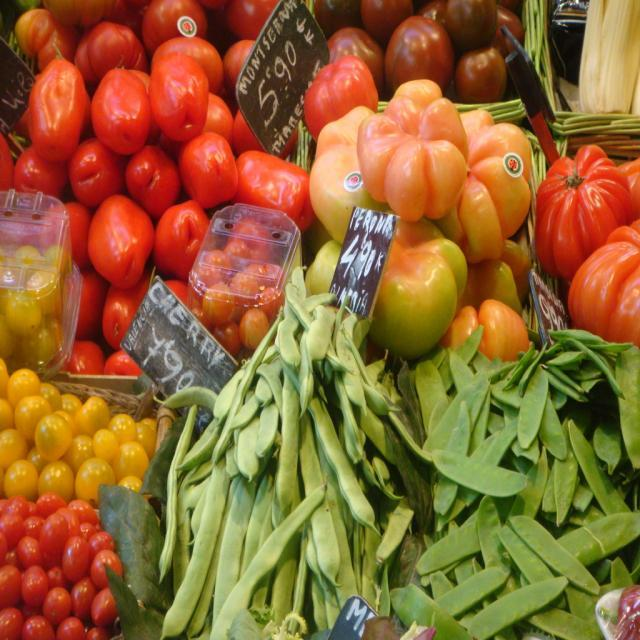Tomato: (0, 0, 298, 376), (300, 79, 532, 354), (0, 492, 126, 640), (537, 146, 631, 284), (565, 223, 640, 339), (85, 174, 147, 276)
